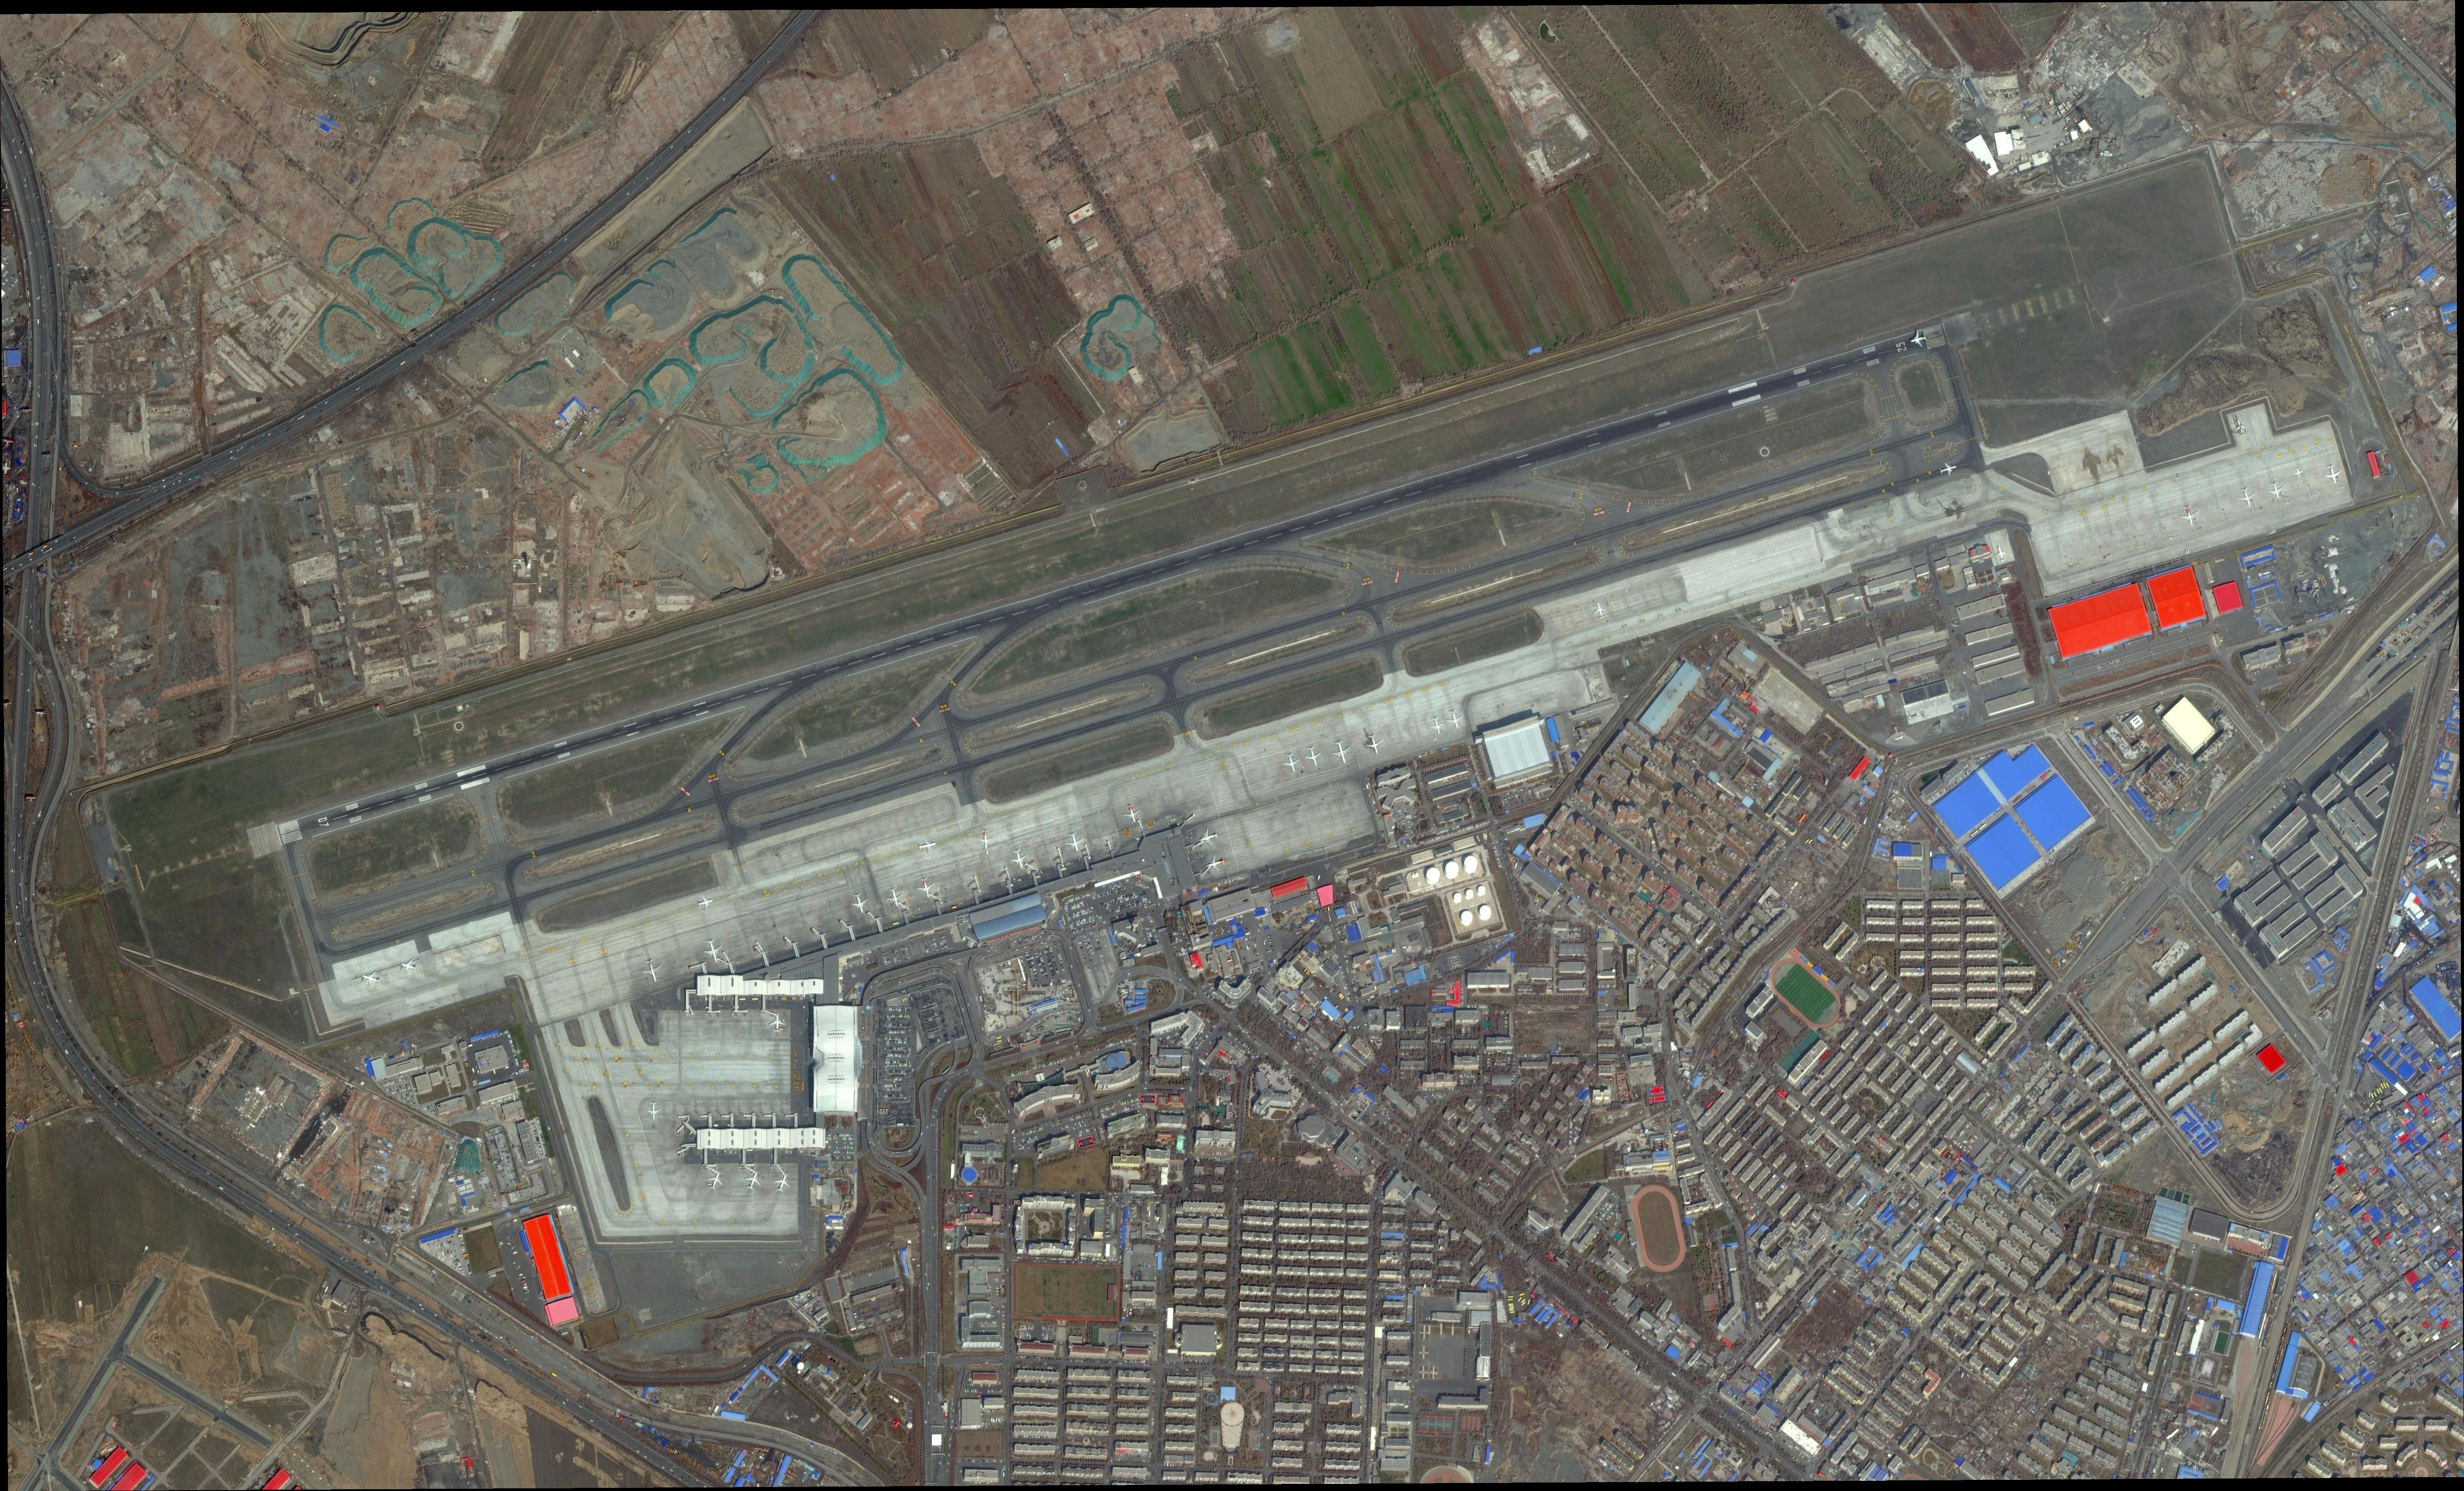plane: (1327, 738, 1355, 768), (699, 936, 725, 968), (1904, 324, 1931, 354), (1278, 750, 1304, 778), (639, 956, 664, 986), (912, 873, 938, 900), (1197, 824, 1223, 848), (1119, 799, 1144, 826), (700, 1169, 727, 1194), (1301, 743, 1325, 769), (2320, 461, 2344, 488), (2177, 502, 2200, 530), (769, 1171, 794, 1195), (2233, 484, 2258, 509), (915, 834, 942, 857), (1204, 850, 1230, 873), (1362, 731, 1385, 757), (1063, 829, 1086, 854), (741, 1169, 764, 1194), (1443, 706, 1466, 731), (1936, 458, 1961, 481), (1424, 713, 1447, 738), (848, 891, 869, 917), (1008, 847, 1030, 873), (884, 885, 905, 910), (359, 968, 384, 989), (398, 956, 421, 977), (2265, 479, 2286, 502), (975, 827, 994, 850), (767, 1012, 787, 1035), (697, 891, 716, 912), (1591, 600, 1610, 621), (2232, 417, 2249, 440), (644, 1100, 662, 1121), (1992, 544, 2008, 565), (2292, 465, 2306, 481)
